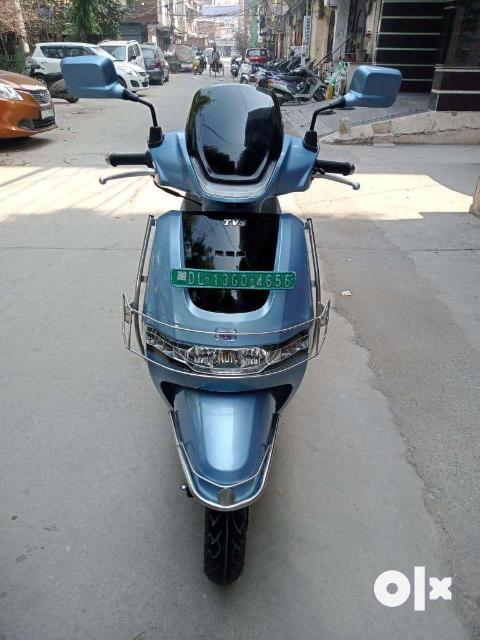Indian_Number_Plate: (172, 268, 296, 290)
